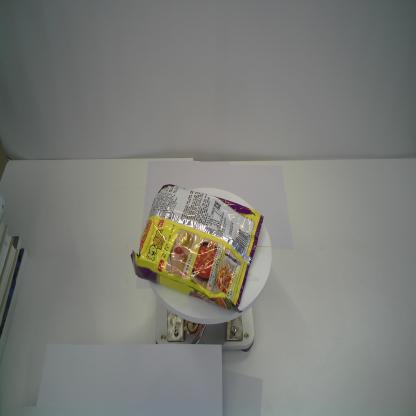Instant Noodles: (130, 183, 264, 314)
